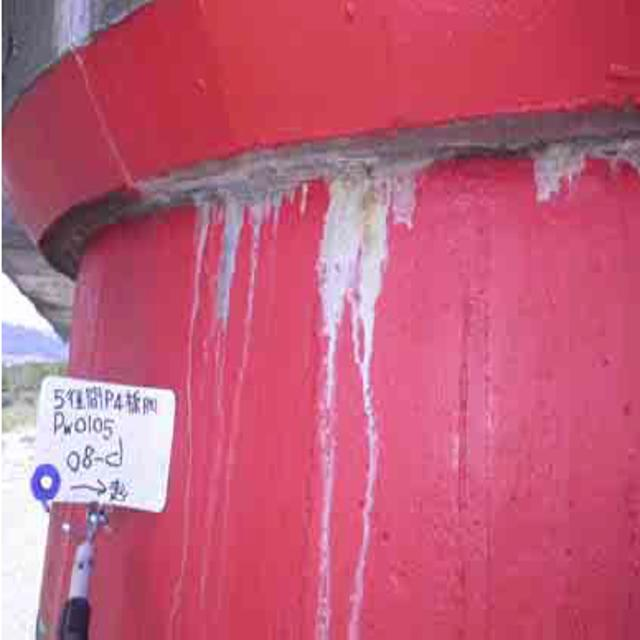freelime: (158, 142, 422, 628)
